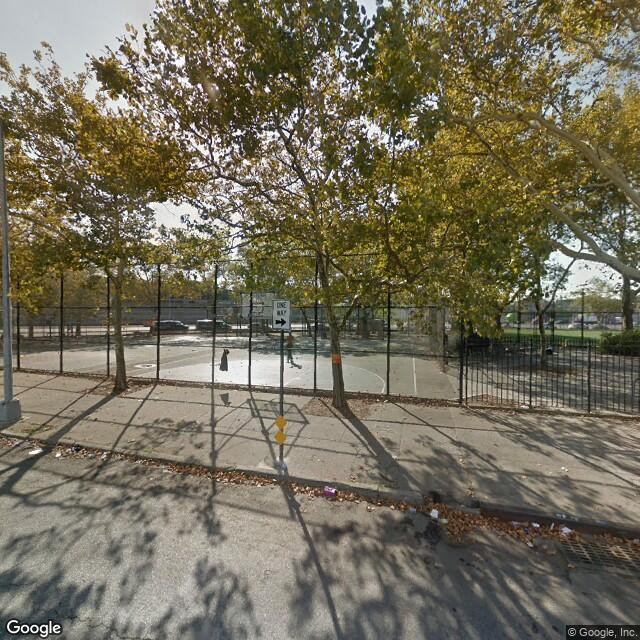litter: (515, 517, 581, 542), (417, 506, 452, 527), (314, 481, 346, 498), (22, 442, 52, 458), (65, 442, 91, 457)
